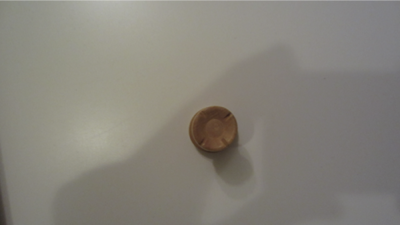white-rook: (189, 106, 239, 154)
